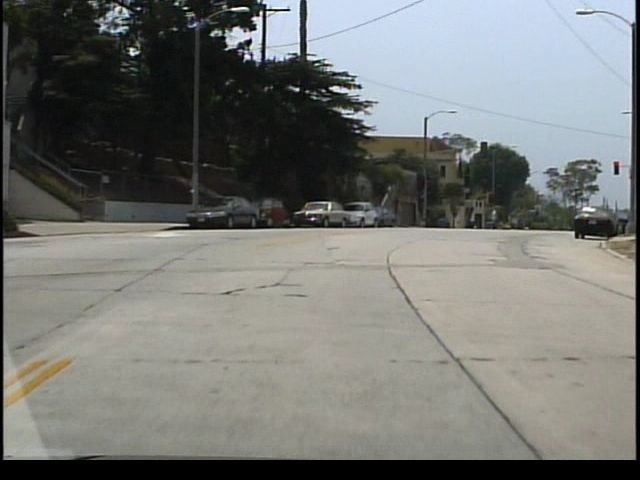person: (494, 206, 502, 228)
